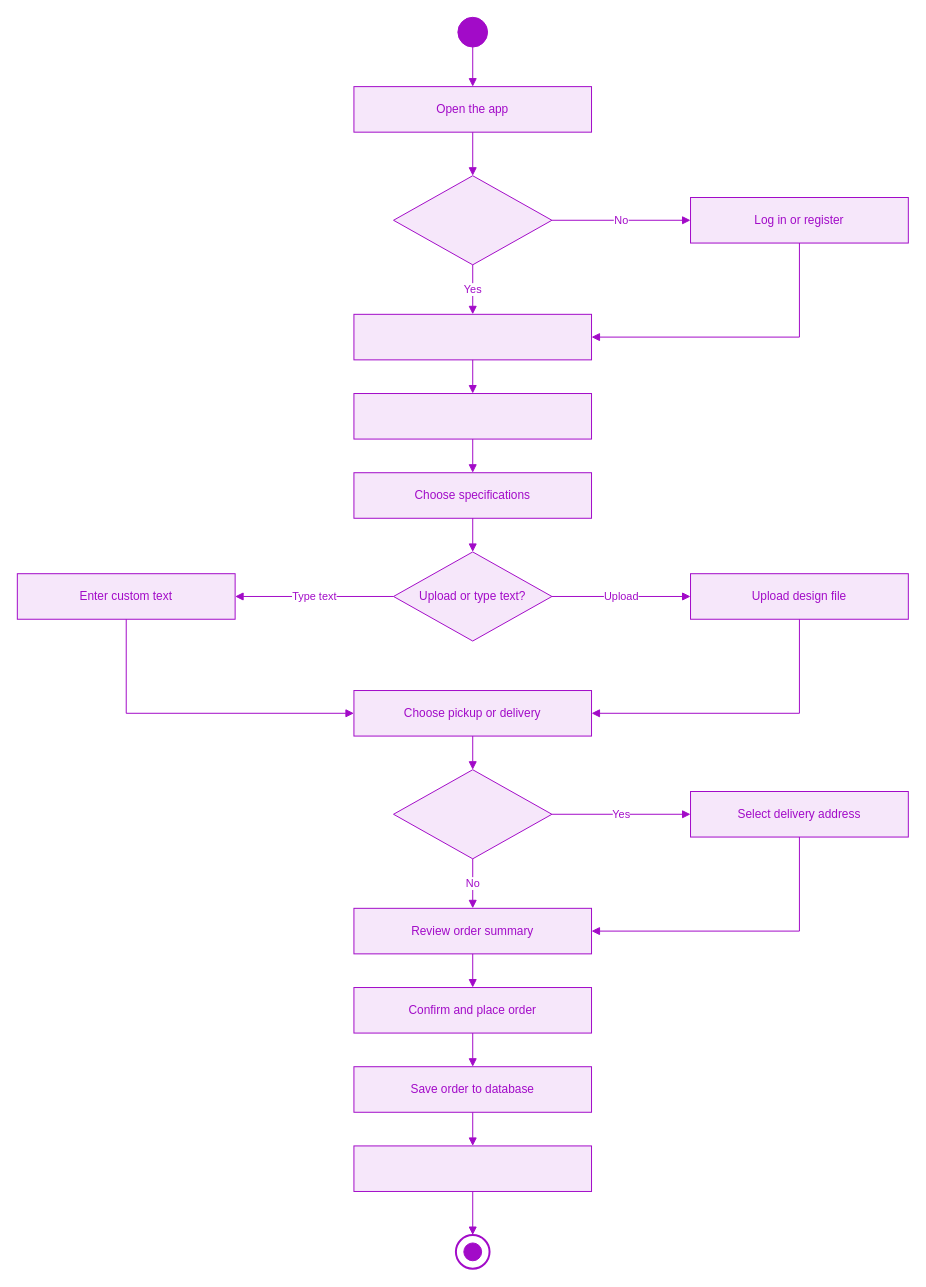
Some shapes in this 926 by 1287 pixel diagram are drawn without their labels. The centre of each missing label's shape, as x and y in pixels:
Browse products: the point at 472,336
Delivery?: the point at 472,814
Logged in?: the point at 472,220
Select a product: the point at 472,416
Show confirmation and notification: the point at 472,1168
